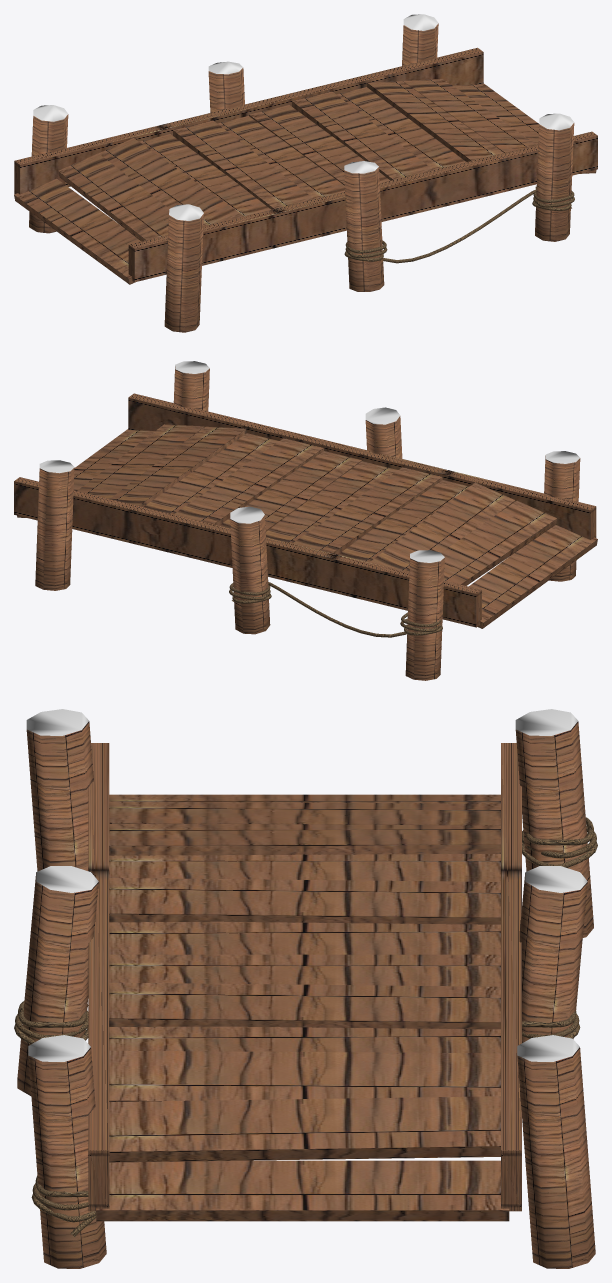
The model's file is Ponte.fbx.
The picture shows the model from 3 angles, top to bottom: view 1: azimuth 30°, elevation 25°; view 2: azimuth 150°, elevation 25°; view 3: azimuth 270°, elevation 25°; orthographic projection. The views are drawn at different scales.
Parts seen in each view (by area): view 1: Cube.012; view 2: Cube.012; view 3: Cube.012.
Boxes of the visible parts, <box> form: Cube.012: <box>14,14,597,332</box>; Cube.012: <box>14,361,597,680</box>; Cube.012: <box>14,709,597,1268</box>.
Bounding box in the file's own units: 666 × 159 × 399.
